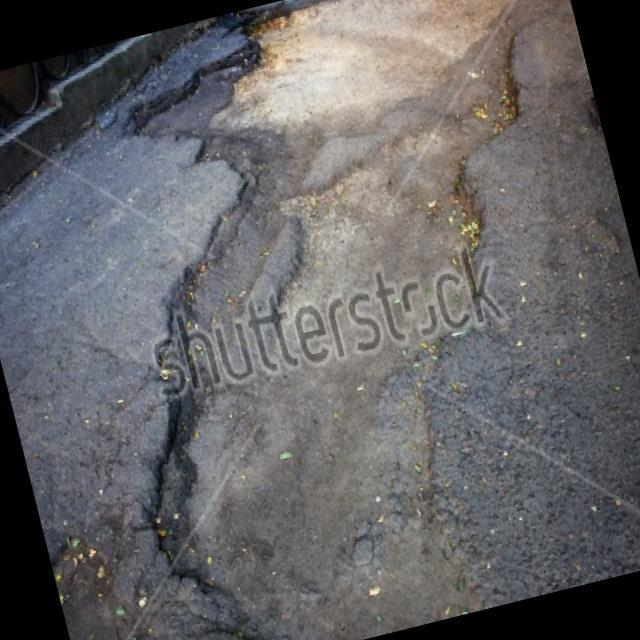Pothole: (51, 102, 588, 640), (120, 0, 598, 223)
